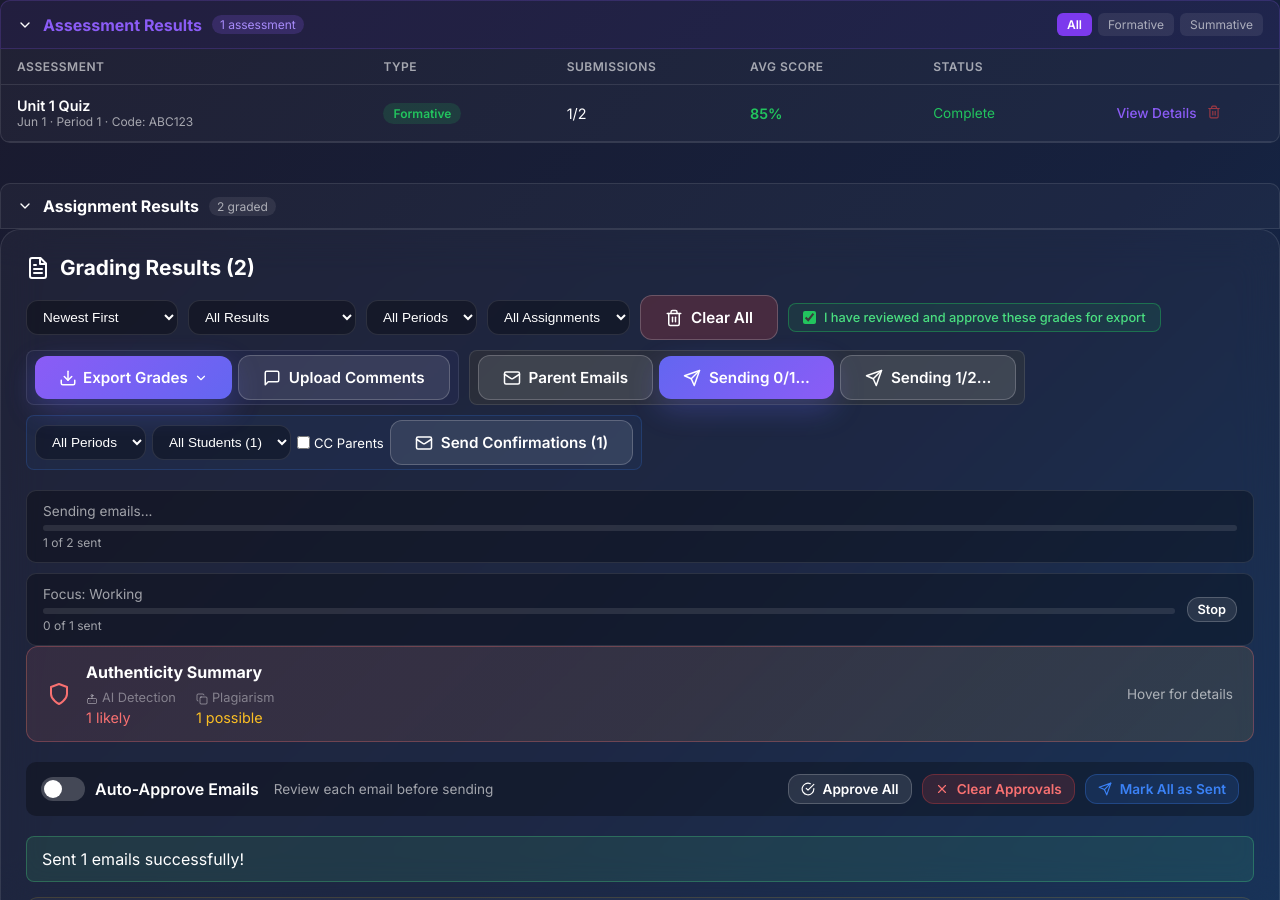
Test: ResultsTab (post tabs/results/ split) › assignment filter select shows the AssignmentStats bar
Select "Essay 1" in the dropdown titled "Filter by assignment" at (558, 318), box [487, 300, 630, 335]
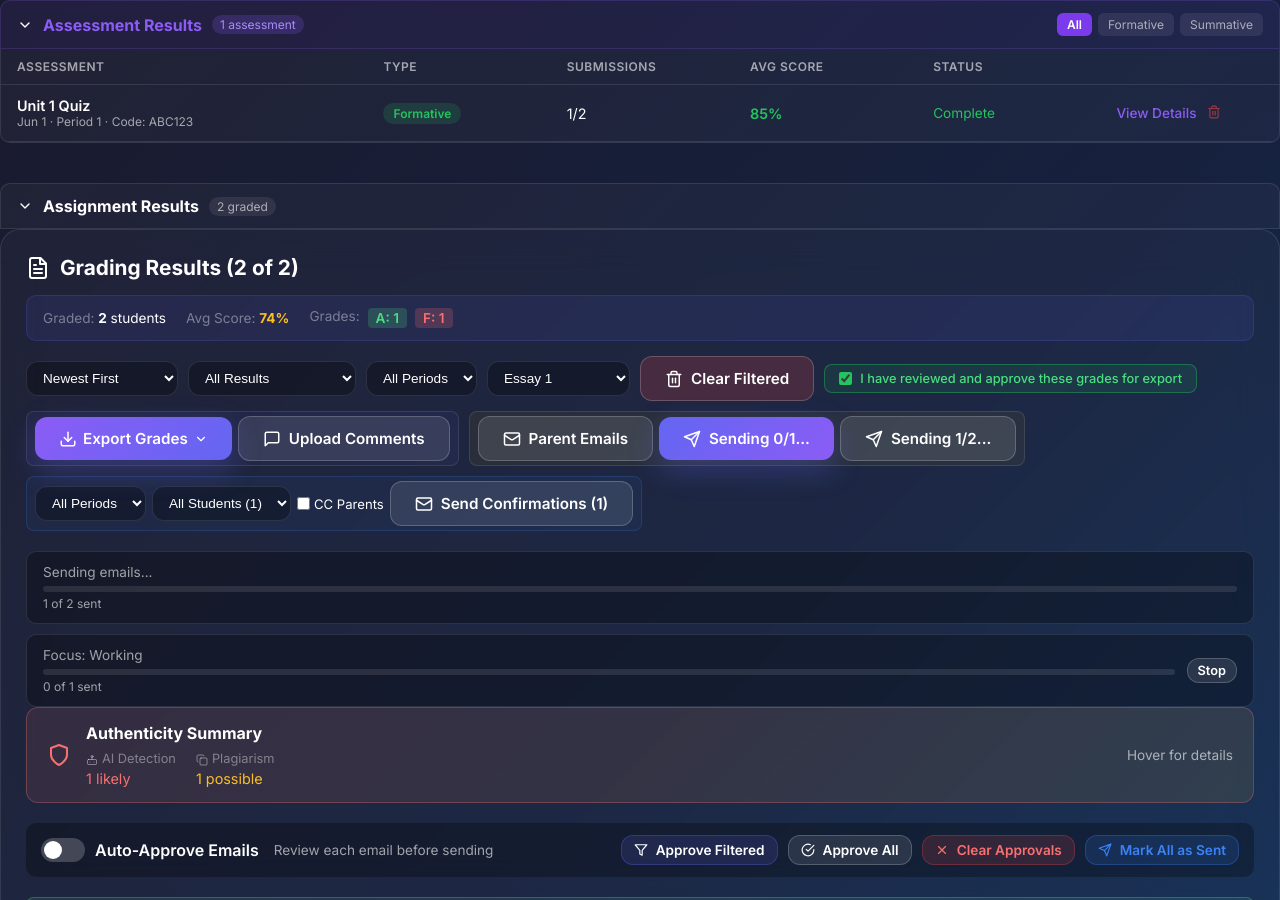
Check: the text "Avg Score:" is shown, box [186, 310, 255, 326]
Check: the text "Graded:" is shown, box [43, 310, 94, 326]
